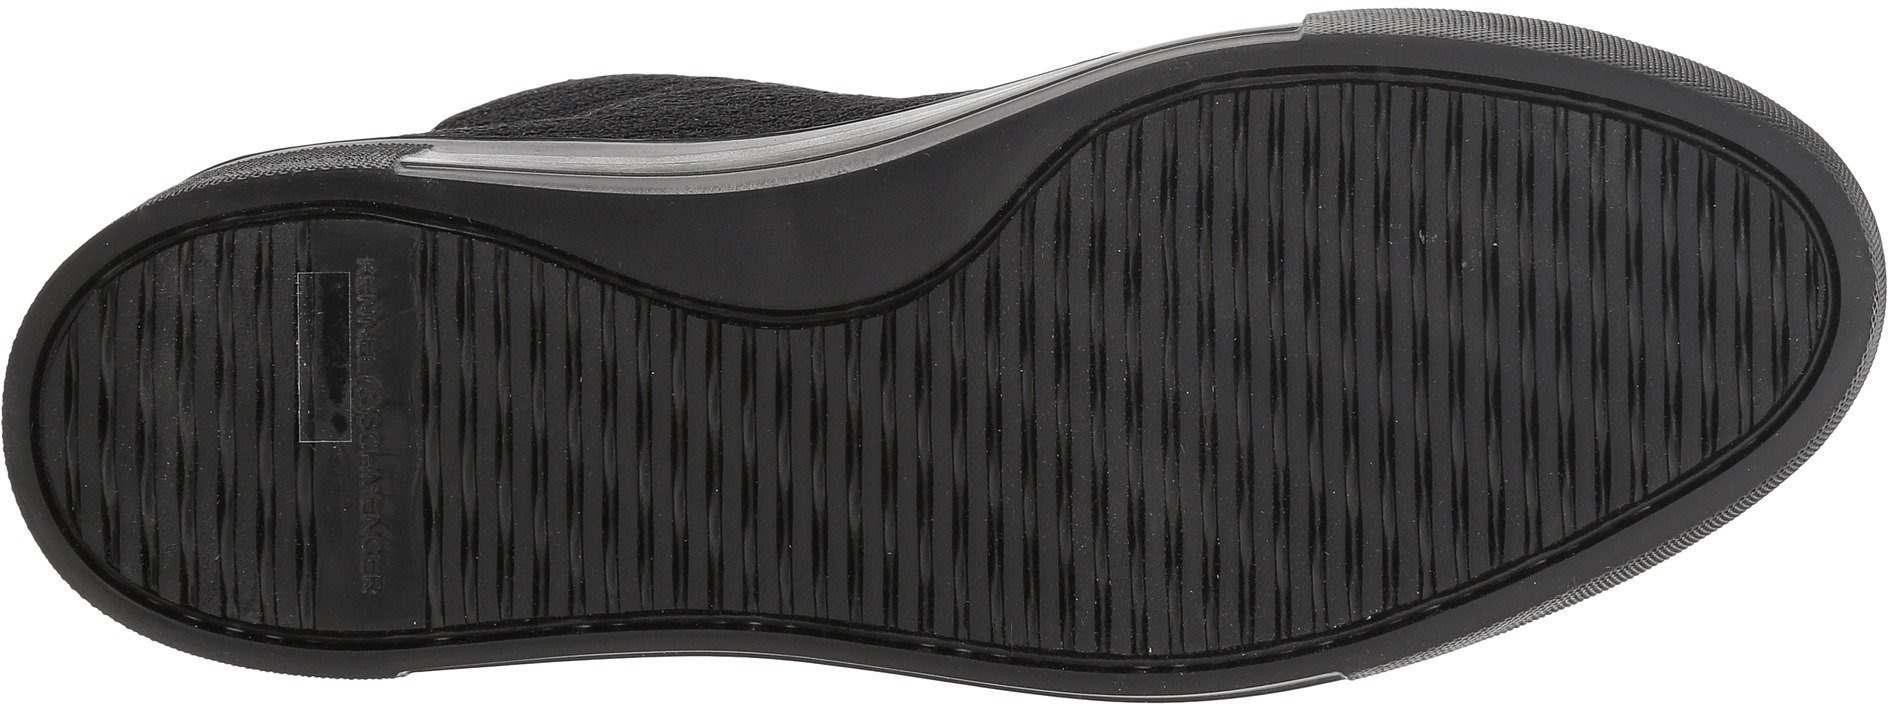line: (1123, 115, 1579, 553), (452, 324, 734, 610), (865, 308, 1123, 559), (83, 316, 308, 531), (1579, 199, 1784, 404)
other: (747, 186, 869, 303)
